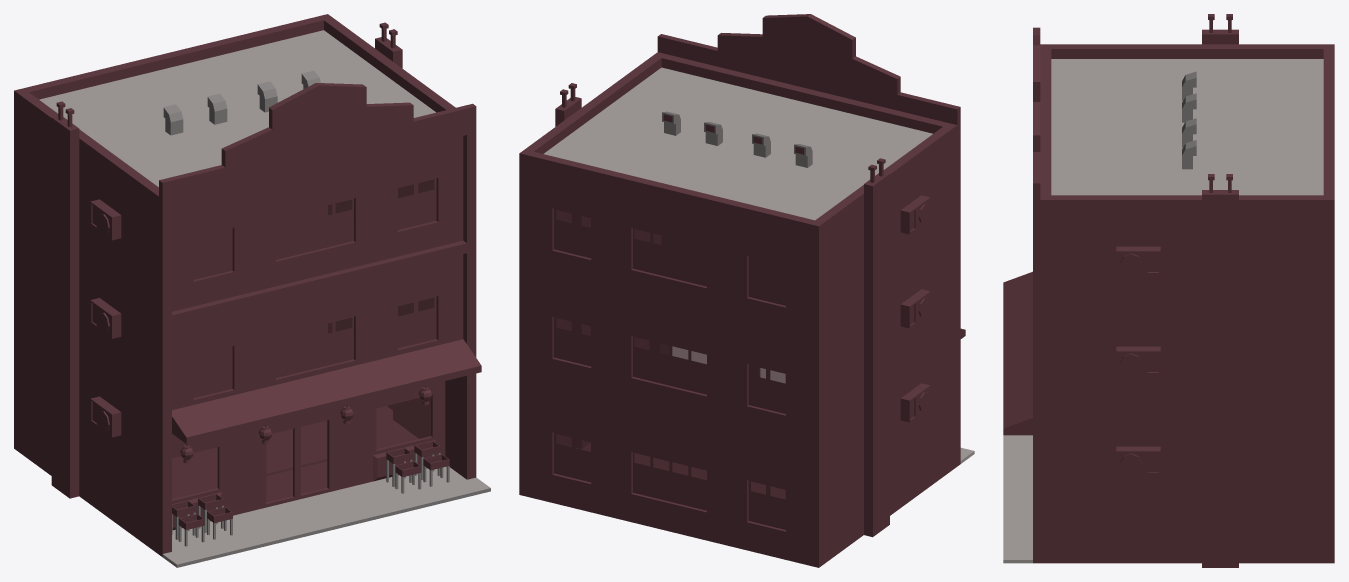
File: building-market-china.fbx
3 views of the same model, side by side, from view 1: azimuth 30°, elevation 25°; view 2: azimuth 150°, elevation 25°; view 3: azimuth 270°, elevation 25° (orthographic). The views are drawn at different scales.
Visible parts, largest first — view 1: building-market-china; view 2: building-market-china; view 3: building-market-china.
Part boxes in pixels (left/top/right/bottom): building-market-china: left=14, top=14, right=490, bottom=567; building-market-china: left=519, top=14, right=974, bottom=567; building-market-china: left=1003, top=14, right=1334, bottom=567.
Bounding box in the file's own units: 10.7 × 13.2 × 9.
